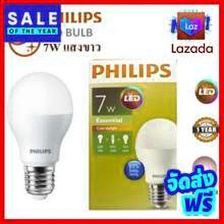book: (86, 56, 179, 213)
light_bulb: (3, 69, 73, 203)
